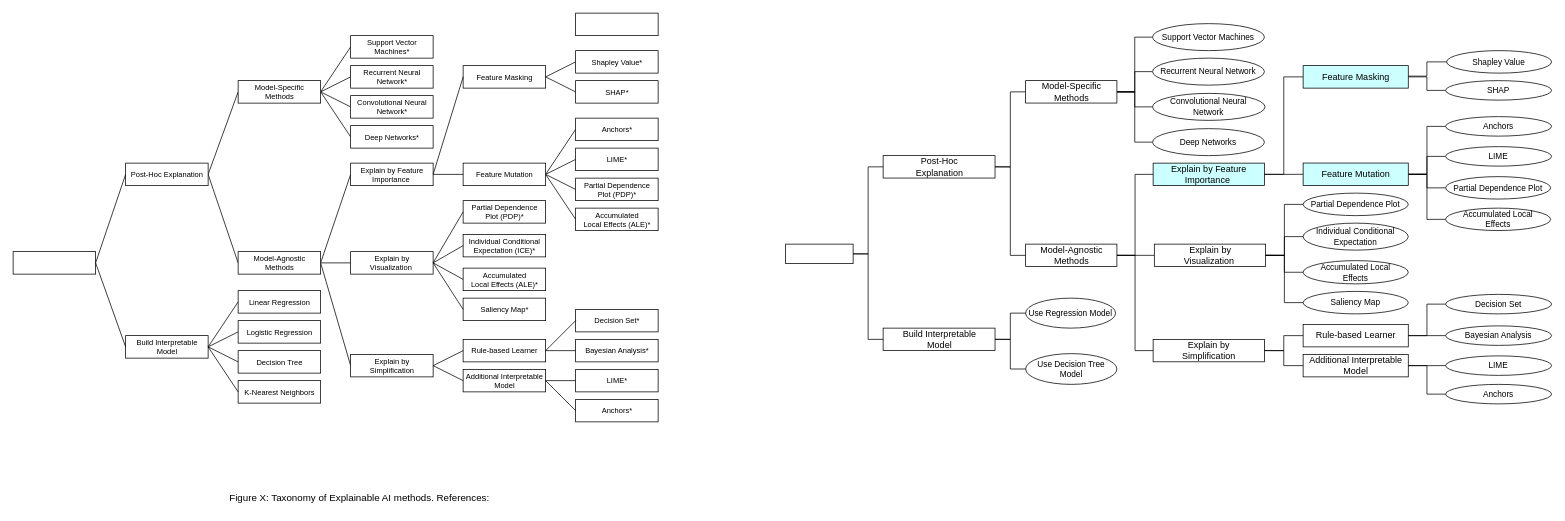
This 1565x521 diagram has some shape labels left out. The box of each missing label's shape, as (x1, y1, x2, y2) in pixels:
Explainable AI: (785, 243, 853, 264)
Preddiff: (575, 12, 658, 36)
XAI: (12, 251, 96, 274)
